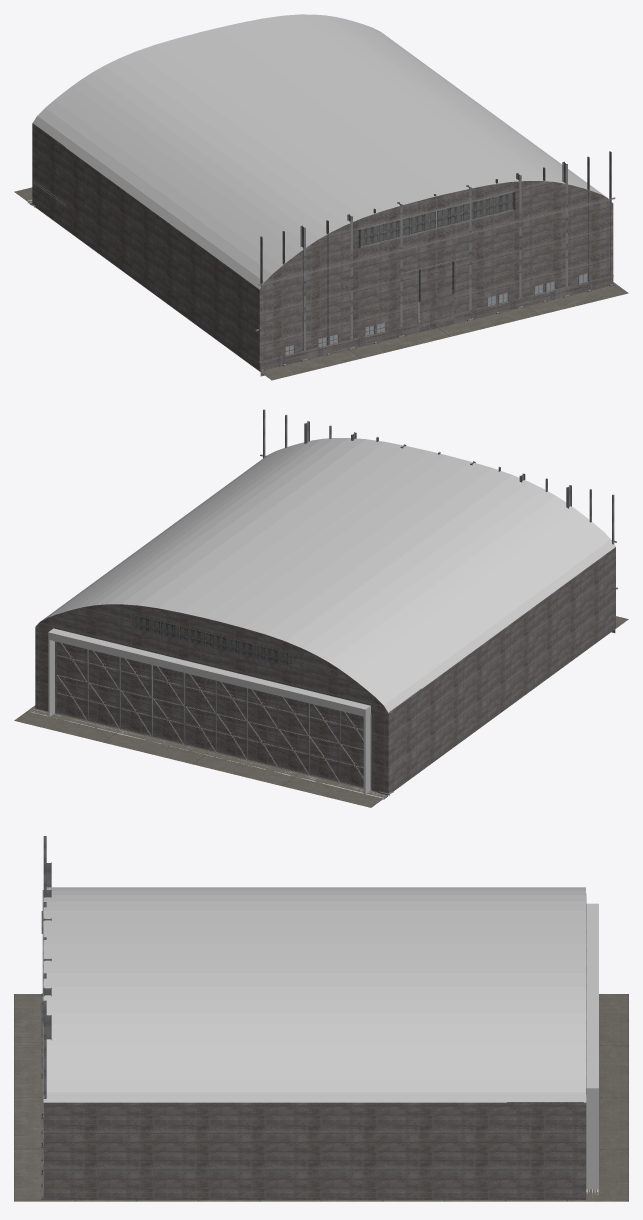
The model's file is Hanger.FBX.
3 views of the same model, one above another, from view 1: azimuth 30°, elevation 25°; view 2: azimuth 150°, elevation 25°; view 3: azimuth 270°, elevation 25° (orthographic). The views are drawn at different scales.
Parts seen in each view (by area): view 1: HAN_Main_RoofA, HAN_Main_WallBack, HAN_Main_WallSide, HAN_Main_Floor, HAN_Main_MetalPanelD, HAN_Main_MetalPanelC; view 2: HAN_Main_RoofA, HAN_Main_WallSide, HAN_Main_WallFront, HAN_Main_Floor, HAN_Main_DoorFrame, HAN_Main_DoorA003, HAN_Main_DoorA004, HAN_Main_DoorA, HAN_Main_DoorA002, HAN_Main_DoorA005, HAN_Main_DoorA007, HAN_Main_DoorA009 (+4 smaller); view 3: HAN_Main_RoofA, HAN_Main_WallSide, HAN_Main_Floor, HAN_Main_DoorFrame, HAN_Main_MetalPanelD, HAN_Main_MetalPanelC.
Part boxes in pixels (x1,y1,x2,y2): HAN_Main_RoofA: (32,14,607,289); HAN_Main_WallBack: (259,181,613,376); HAN_Main_WallSide: (32,123,259,370); HAN_Main_Floor: (14,187,628,380); HAN_Main_MetalPanelD: (255,151,615,371); HAN_Main_MetalPanelC: (300,161,571,361); HAN_Main_RoofA: (35,438,615,712); HAN_Main_WallSide: (55,547,615,793); HAN_Main_WallFront: (35,604,388,793); HAN_Main_Floor: (14,616,628,807); HAN_Main_DoorFrame: (48,628,370,793); HAN_Main_DoorA003: (120,657,152,736); HAN_Main_DoorA004: (152,665,184,744); HAN_Main_DoorA: (88,649,120,728); HAN_Main_DoorA002: (56,641,88,721); HAN_Main_DoorA005: (184,673,216,752); HAN_Main_DoorA007: (246,688,278,767); HAN_Main_DoorA009: (308,703,340,782); HAN_Main_RoofA: (43,887,586,1102); HAN_Main_WallSide: (43,897,586,1199); HAN_Main_Floor: (14,994,628,1201); HAN_Main_DoorFrame: (586,903,598,1189); HAN_Main_MetalPanelD: (41,836,46,1199); HAN_Main_MetalPanelC: (41,862,51,1174).
Size of the model in its own units: 864 by 331 by 1073.
